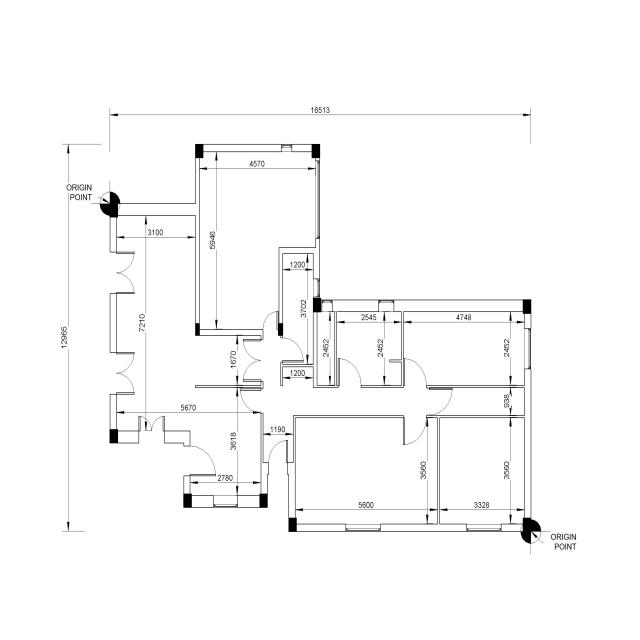Column: (183, 493, 192, 508), (259, 493, 268, 508), (195, 144, 204, 158), (110, 203, 118, 218), (523, 299, 531, 314), (110, 429, 118, 443), (288, 518, 296, 532), (523, 518, 531, 532), (313, 298, 321, 312), (312, 144, 320, 158), (278, 323, 283, 336), (195, 323, 200, 336)
Door: (184, 446, 216, 476), (426, 387, 453, 416), (267, 440, 289, 475), (403, 415, 427, 445), (403, 358, 427, 388), (337, 358, 361, 388), (280, 336, 304, 365), (240, 387, 264, 414), (263, 311, 278, 339)
Double-Door: (110, 352, 134, 395), (110, 252, 134, 294), (243, 339, 263, 382), (138, 416, 164, 443)
Window: (315, 160, 320, 239), (524, 328, 532, 369), (213, 495, 238, 508), (466, 524, 502, 532), (346, 524, 380, 532), (378, 300, 394, 312), (321, 300, 333, 312), (313, 278, 320, 298), (281, 144, 292, 152)
